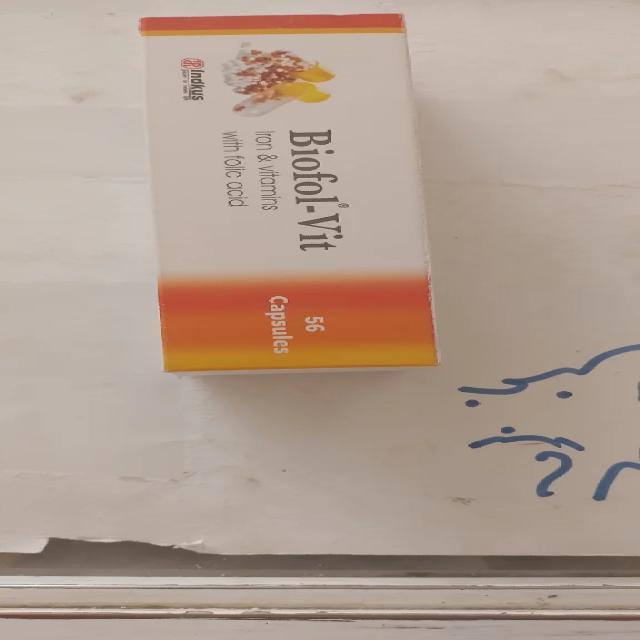drug-name: (286, 125, 365, 257)
